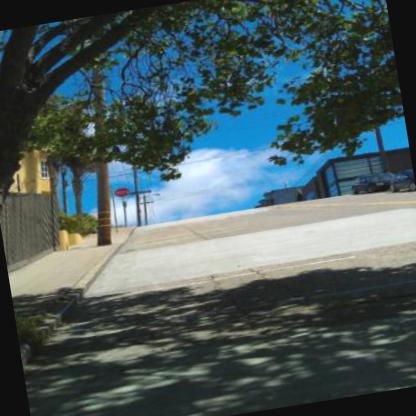car: (344, 168, 392, 195), (384, 166, 416, 196)
